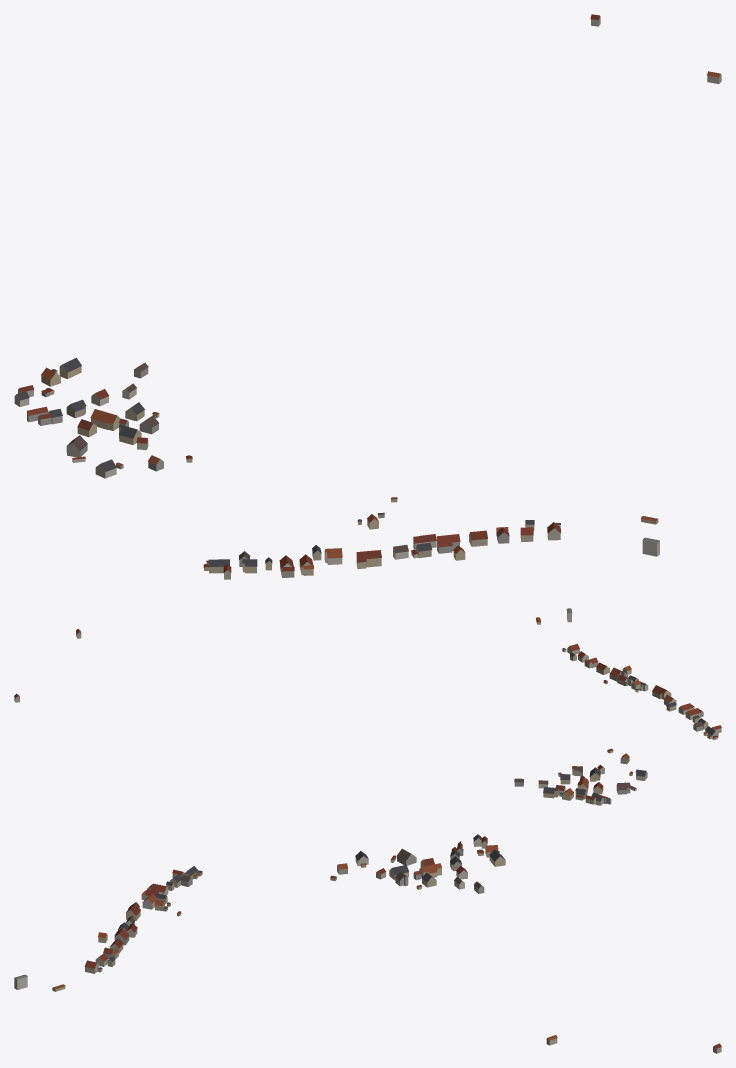
3 views of the same model, one above another, from view 1: azimuth 30°, elevation 25°; view 2: azimuth 150°, elevation 25°; view 3: azimuth 270°, elevation 25° (orthographic). The views are drawn at different scales.
Parts seen in each view (by area): view 1: buildings; view 2: buildings; view 3: buildings.
Part boxes in pixels (x1,y1,x2,y2): buildings: [14, 14, 721, 579]; buildings: [14, 608, 721, 805]; buildings: [14, 834, 721, 1053].
Bounding box in the file's own units: 688 × 133 × 718.
